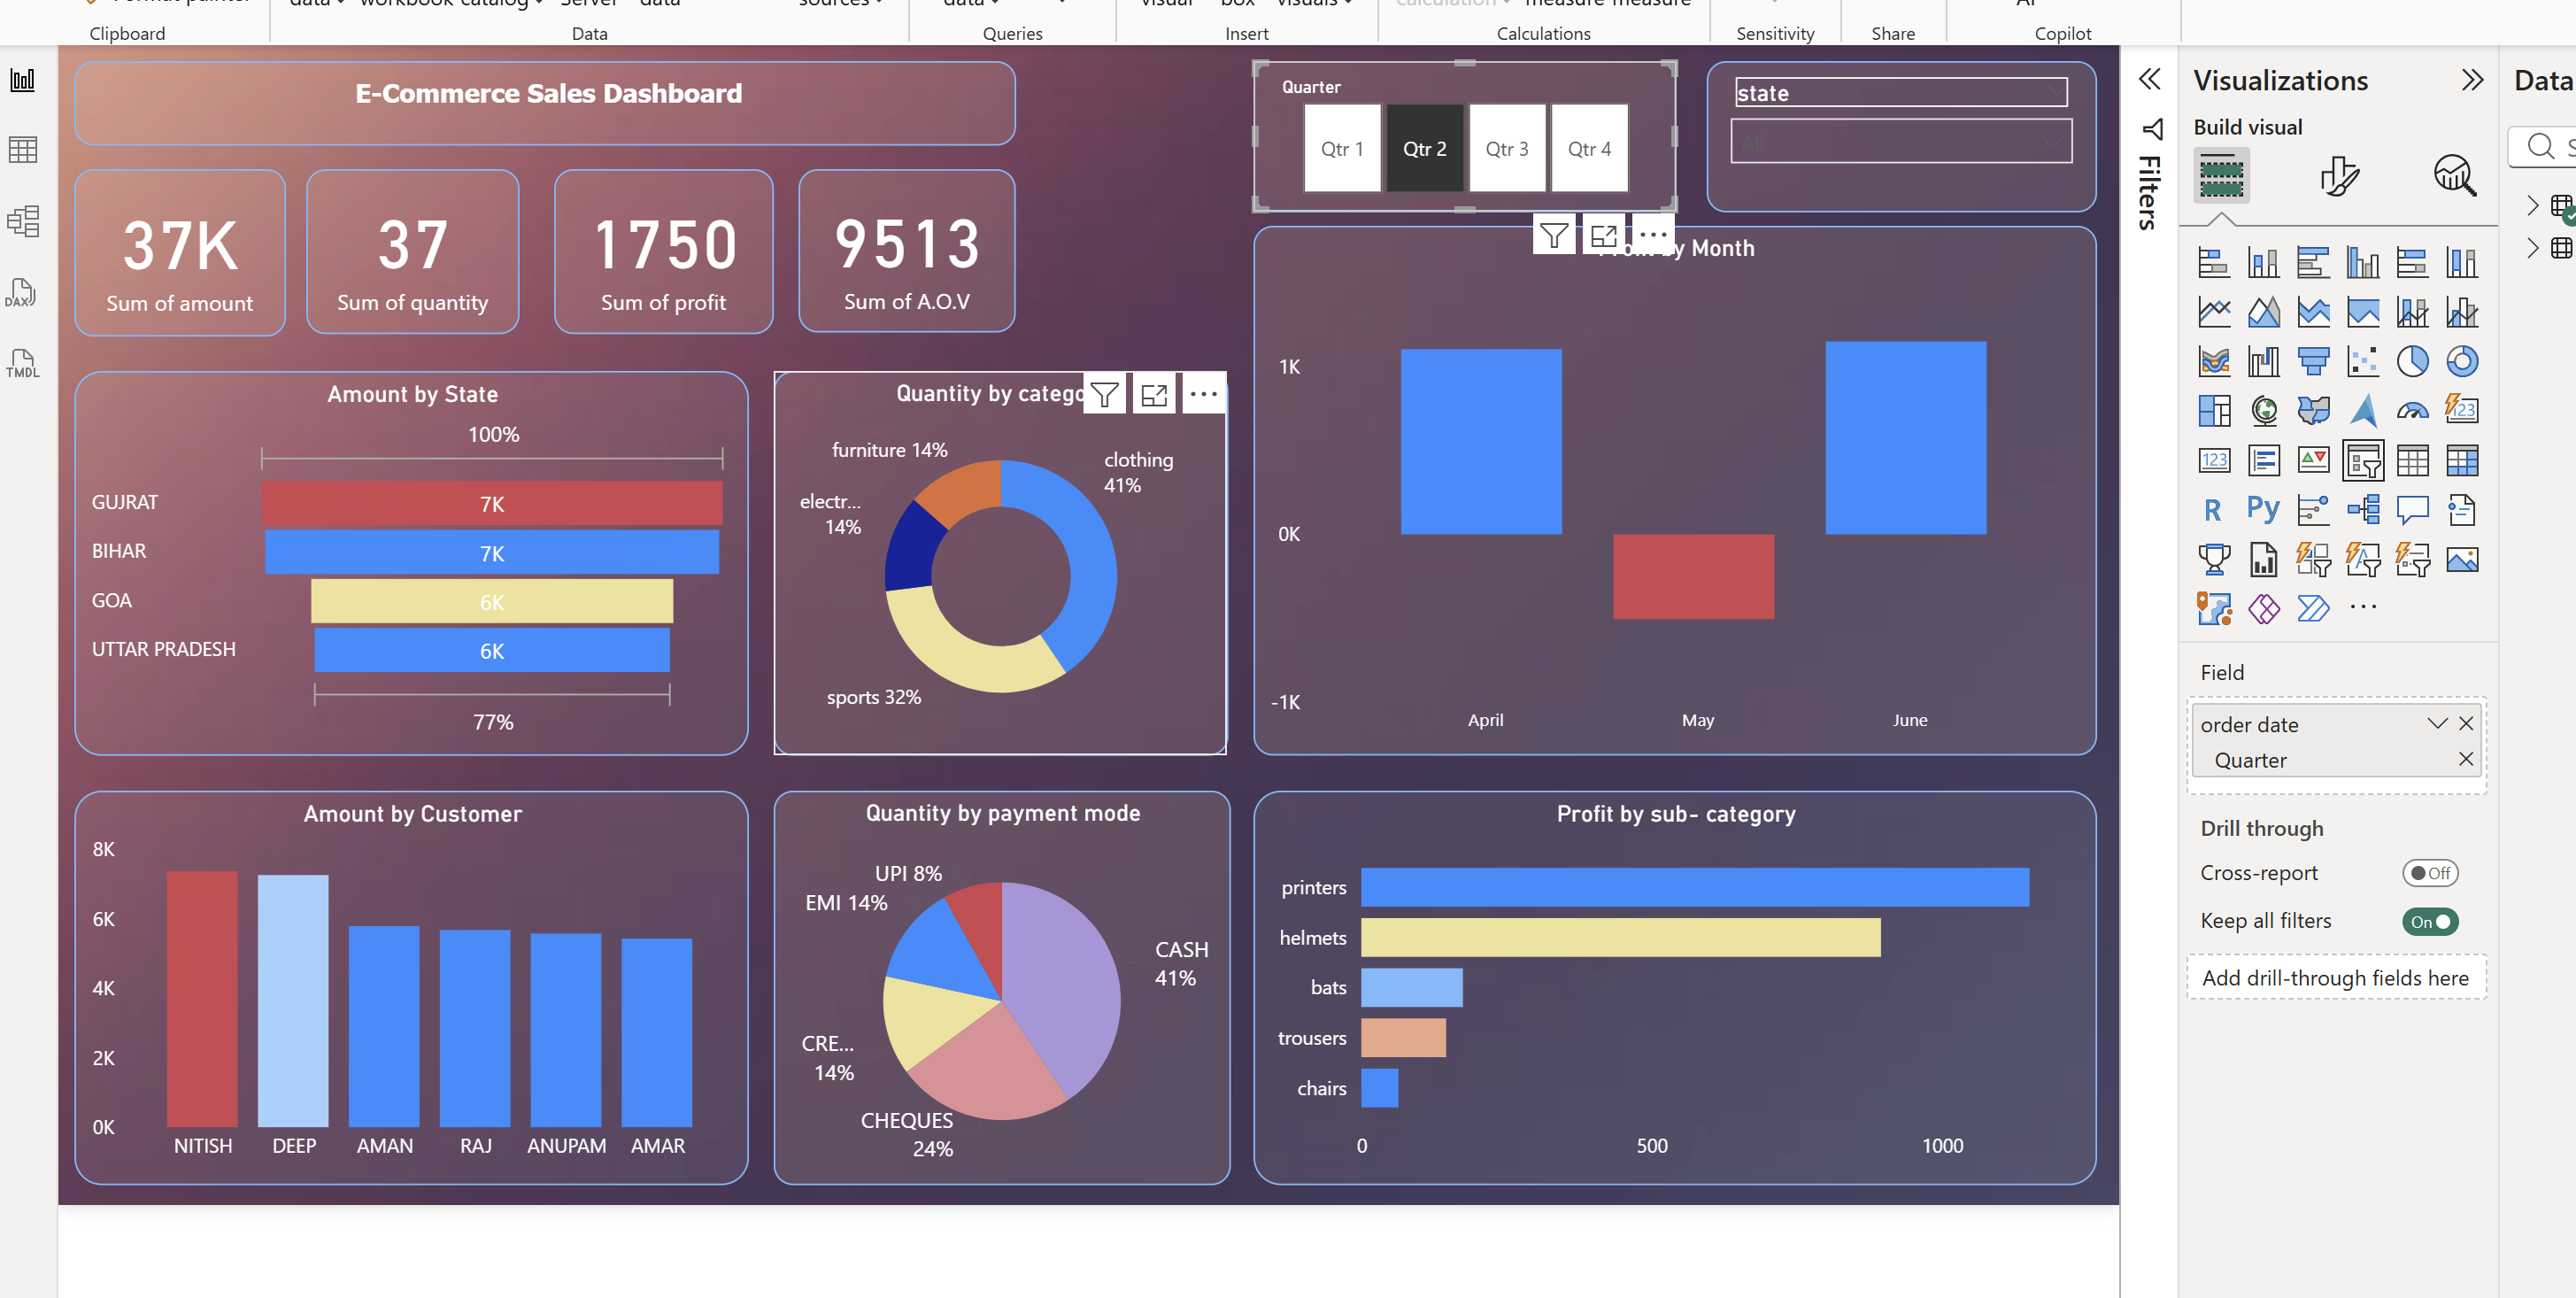

This screenshot's page, from the dashboard's own definition file:
{"tool":"powerbi","page":{"name":"Page 1","canvas":[1280,720],"ordinal":0},"visuals":[{"type":"textbox","box":[10,10,585,52.5],"z":0},{"type":"barChart","title":"Profit by sub- category","fields":{"Category":["Sheet1.sub- category"],"Y":["Sheet1.profit"]},"box":[742.5,462.5,523.8,245],"z":1000},{"type":"columnChart","title":"Profit by Month","fields":{"Category":["Sheet1.order date .Variation.Date Hierarchy.Month"],"Y":["Sheet1.profit"]},"box":[742.5,112.5,523.8,328.8],"z":2000},{"type":"donutChart","title":"Quantity by category","fields":{"Category":["Sheet1.category"],"Y":["Sheet1.quantity"]},"box":[443.8,202.5,282.5,238.8],"z":3000},{"type":"pieChart","title":"Quantity by payment mode","fields":{"Y":["Sheet1.quantity"],"Category":["Sheet1.payment mode"]},"box":[443.8,462.5,283.8,245],"z":4000},{"type":"card","fields":{"Values":["Sheet1.amount"]},"box":[10,77.5,131.2,103.8],"z":5000},{"type":"card","fields":{"Values":["Sheet1.quantity"]},"box":[153.8,77.5,132.5,102.5],"z":6000},{"type":"card","fields":{"Values":["Sheet1.profit"]},"box":[307.5,77.5,136.2,102.5],"z":7000},{"type":"card","fields":{"Values":["Sheet1.A.O.V"]},"box":[460,77.5,135,101.2],"z":8000},{"type":"funnel","title":"Amount by State","fields":{"Category":["Sheet1.state"],"Y":["Sheet1.amount"]},"box":[10,202.5,418.8,238.8],"z":9000},{"type":"columnChart","title":"Amount by Customer","fields":{"Category":["Sheet1.customer name"],"Y":["Sheet1.amount"]},"box":[10,462.5,418.8,245],"z":10000},{"type":"slicer","fields":{"Values":["Sheet1.order date .Variation.Date Hierarchy.Quarter"]},"box":[742.5,10,262.5,93.8],"z":11000},{"type":"slicer","fields":{"Values":["Sheet1.state"]},"box":[1023.8,10,242.5,93.8],"z":12000}]}

Visuals, with their boxes on the page's 1280x720 design canvas (x1, y1, x2, y2). These are canvas units, not pixel positions in the 2576x1298 screenshot, which may show the page scaled, cropped or inside an application window:
textbox: 10/10/595/62
"Profit by sub- category" barChart: 742/462/1266/708
"Profit by Month" columnChart: 742/112/1266/441
"Quantity by category" donutChart: 444/202/726/441
"Quantity by payment mode" pieChart: 444/462/728/708
card - Sheet1.amount: 10/78/141/181
card - Sheet1.quantity: 154/78/286/180
card - Sheet1.profit: 308/78/444/180
card - Sheet1.A.O.V: 460/78/595/179
"Amount by State" funnel: 10/202/429/441
"Amount by Customer" columnChart: 10/462/429/708
slicer - Sheet1.order date .Variation.Date Hierarchy.Quarter: 742/10/1005/104
slicer - Sheet1.state: 1024/10/1266/104
